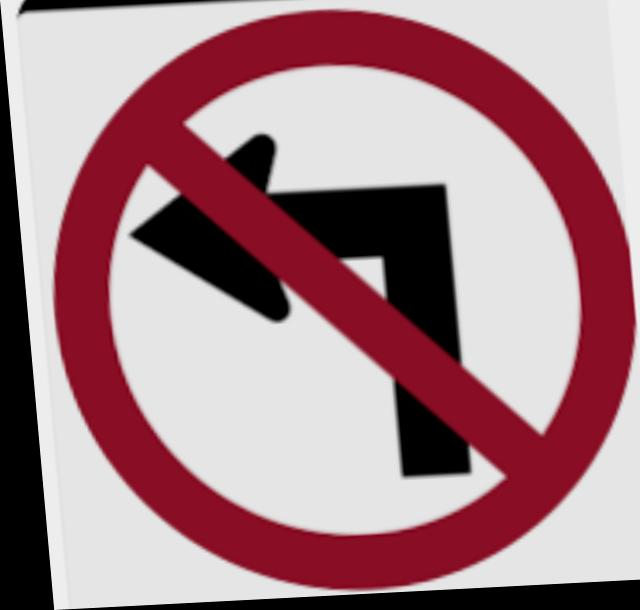not_turn_left: (6, 0, 640, 601)
